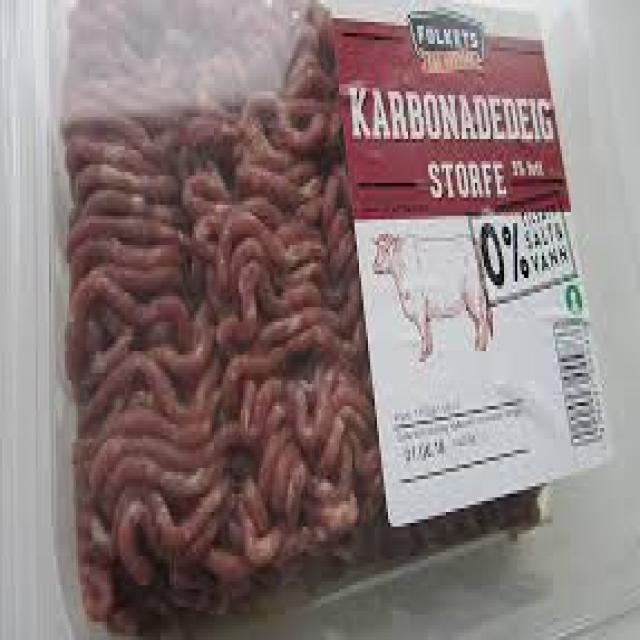Wet: (64, 47, 345, 576)
